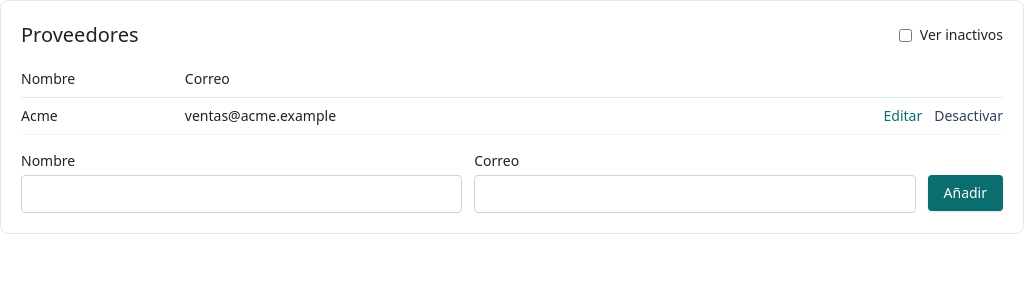
Test: TablaLista › pide también los inactivos al marcar «Ver inactivos»
Expected: the text "Acme" is shown, [21,98,185,134]
Click the checkbox labelled "Ver inactivos".
click(905, 35)  # box [899,28,912,42]
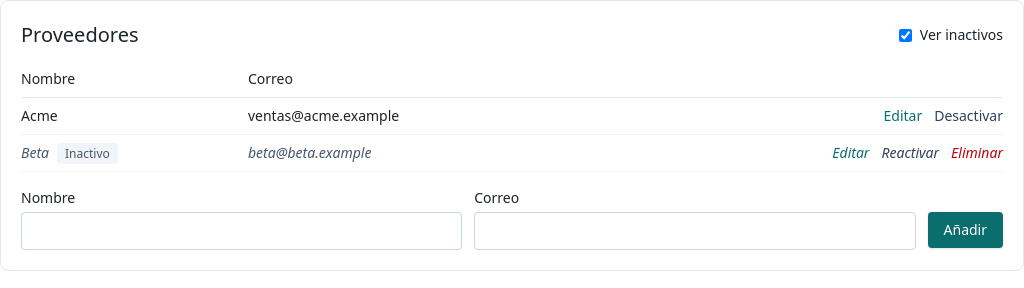
Expected: the text "Beta" is shown, [21,143,49,162]
Expected: the text "Inactivo" is shown, [57,143,118,164]
